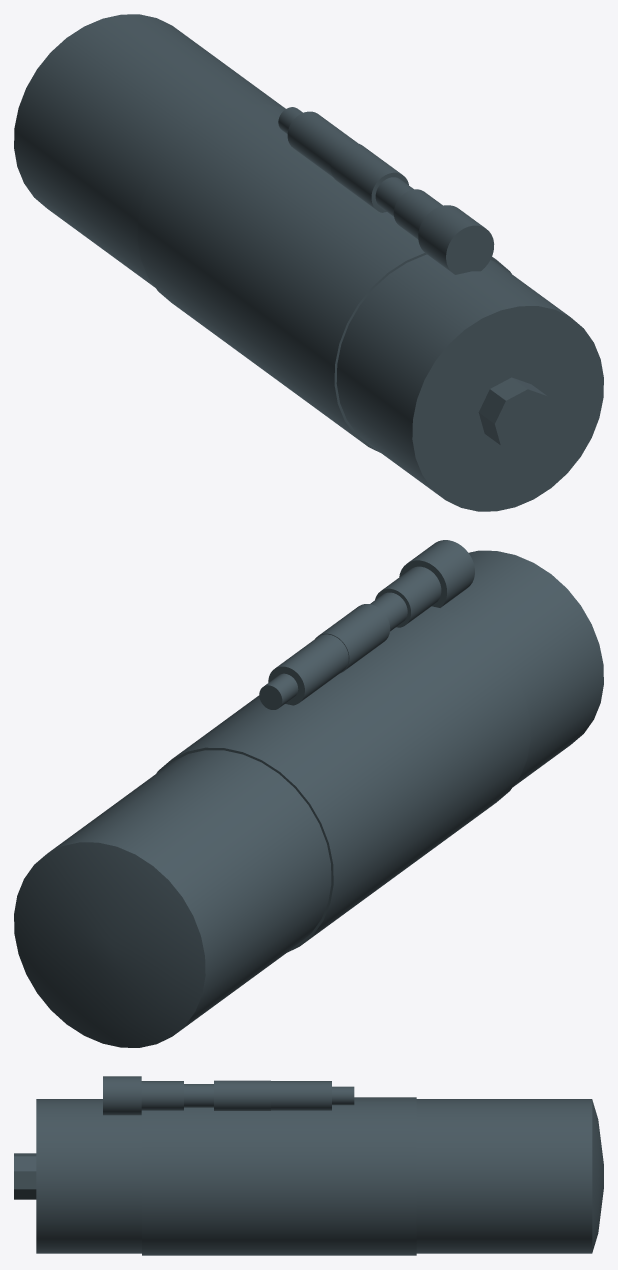
Rendered from ЗУР-РО-ПАД_П.fbx.
3 renders of one model, top to bottom at view 1: azimuth 30°, elevation 25°; view 2: azimuth 150°, elevation 25°; view 3: azimuth 270°, elevation 25°, orthographic. The views are drawn at different scales.
Parts seen in each view (by area): view 1: ЗУР-РО-ПАД_П; view 2: ЗУР-РО-ПАД_П; view 3: ЗУР-РО-ПАД_П.
Boxes of the visible parts, bbox=[...] form: ЗУР-РО-ПАД_П: bbox=[14, 14, 603, 511]; ЗУР-РО-ПАД_П: bbox=[14, 540, 603, 1047]; ЗУР-РО-ПАД_П: bbox=[14, 1076, 603, 1255].
Bounding box in the file's own units: 27.82 × 33.62 × 104.
Materials: 1 (1 with a texture image).
